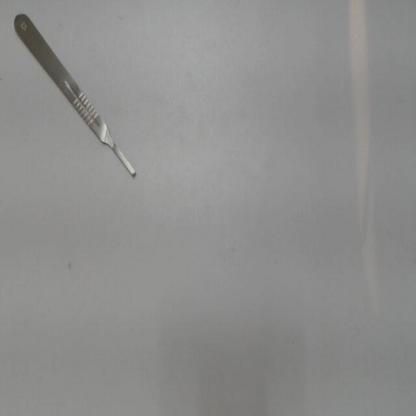No.4 BP Handle: (11, 8, 143, 182)
